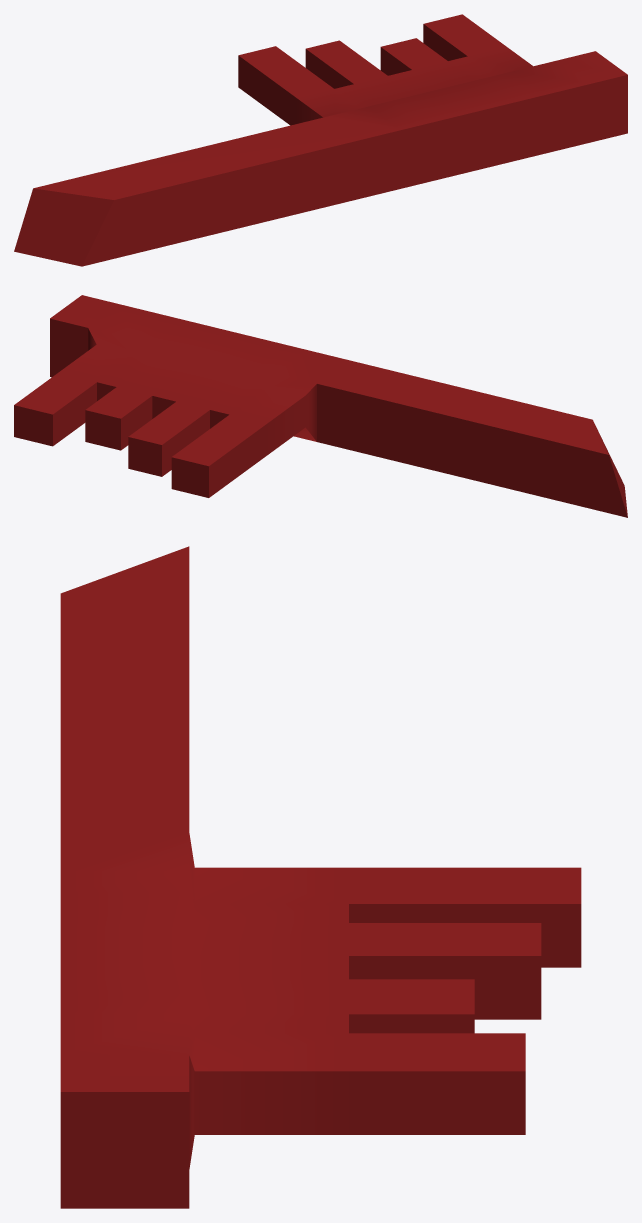
File: BrokenRedKeyBit.fbx
The picture shows the model from 3 angles, top to bottom: view 1: azimuth 30°, elevation 25°; view 2: azimuth 150°, elevation 25°; view 3: azimuth 270°, elevation 25°; orthographic projection. The views are drawn at different scales.
Visible parts, largest first — view 1: KeyBit; view 2: KeyBit; view 3: KeyBit.
Part boxes in pixels (left/top/right/bottom): KeyBit: left=14, top=14, right=627, bottom=266; KeyBit: left=14, top=295, right=627, bottom=517; KeyBit: left=60, top=546, right=581, bottom=1208.
Size of the model in its own units: 0.6825 by 0.0658 by 0.2663.
